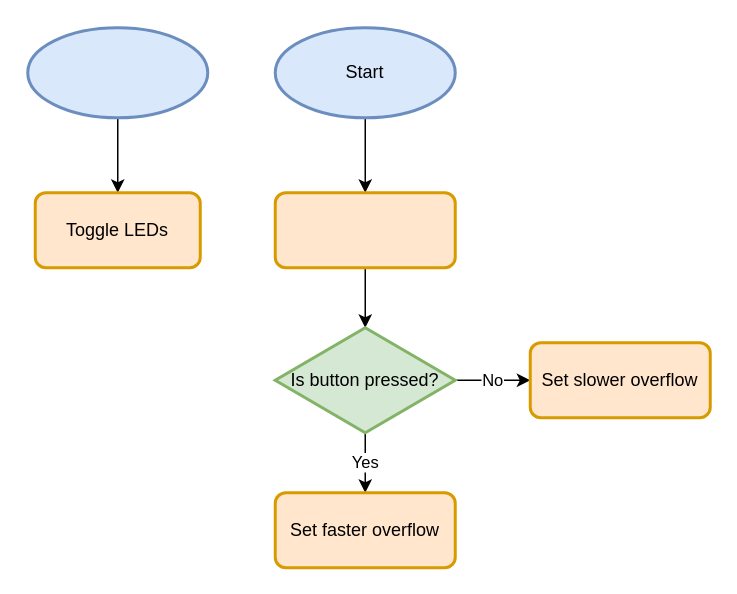
This 737x594 diagram has some shape labels left out. The box of each missing label's shape, as (x1, y1, x2, y2) in pixels:
Interrupt: (26, 26, 208, 118)
Set LEDs, button and enable interrupt: (273, 190, 456, 268)
